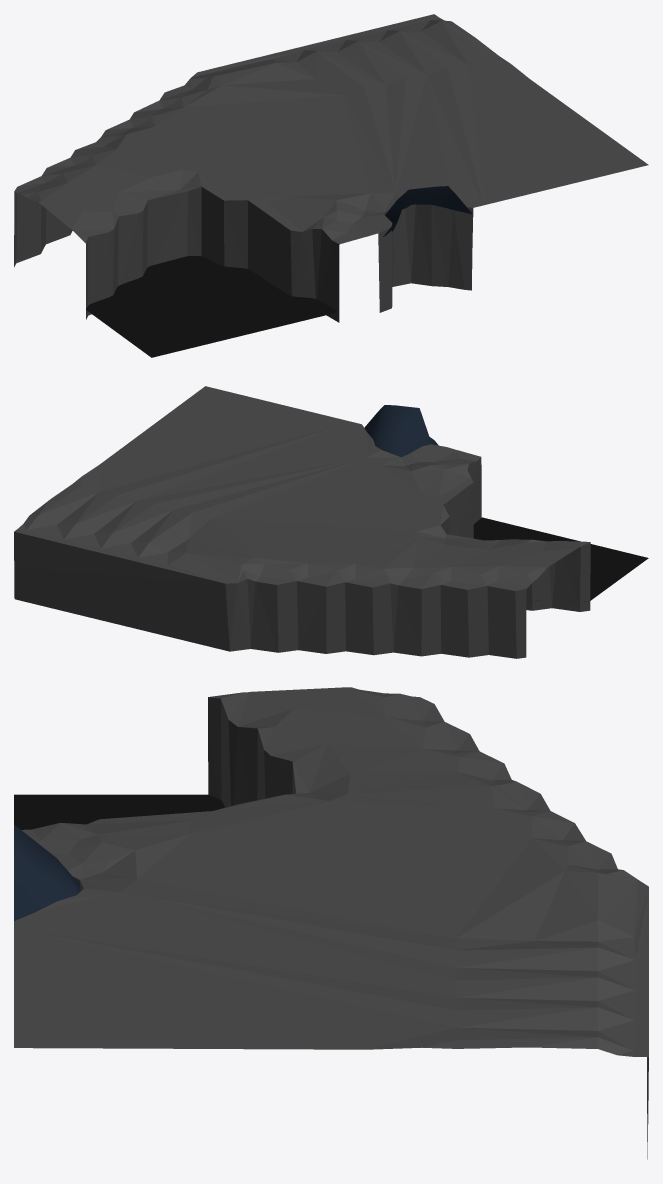
Rendered from newsho-7.glb.
The picture shows the model from 3 angles, top to bottom: view 1: azimuth 30°, elevation 25°; view 2: azimuth 150°, elevation 25°; view 3: azimuth 270°, elevation 25°; orthographic projection. The views are drawn at different scales.
Visible parts, largest first — view 1: newsho-7; view 2: newsho-7; view 3: newsho-7.
Part boxes in pixels (box(x1,y1,x2,y2)): newsho-7: box(14, 14, 648, 357); newsho-7: box(14, 386, 648, 658); newsho-7: box(14, 687, 648, 1159).
Bounding box in the file's own units: 2 × 0.447 × 1.49.
